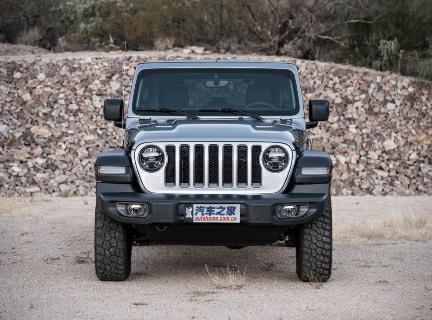Jeep-牧马人: (86, 58, 347, 295)
